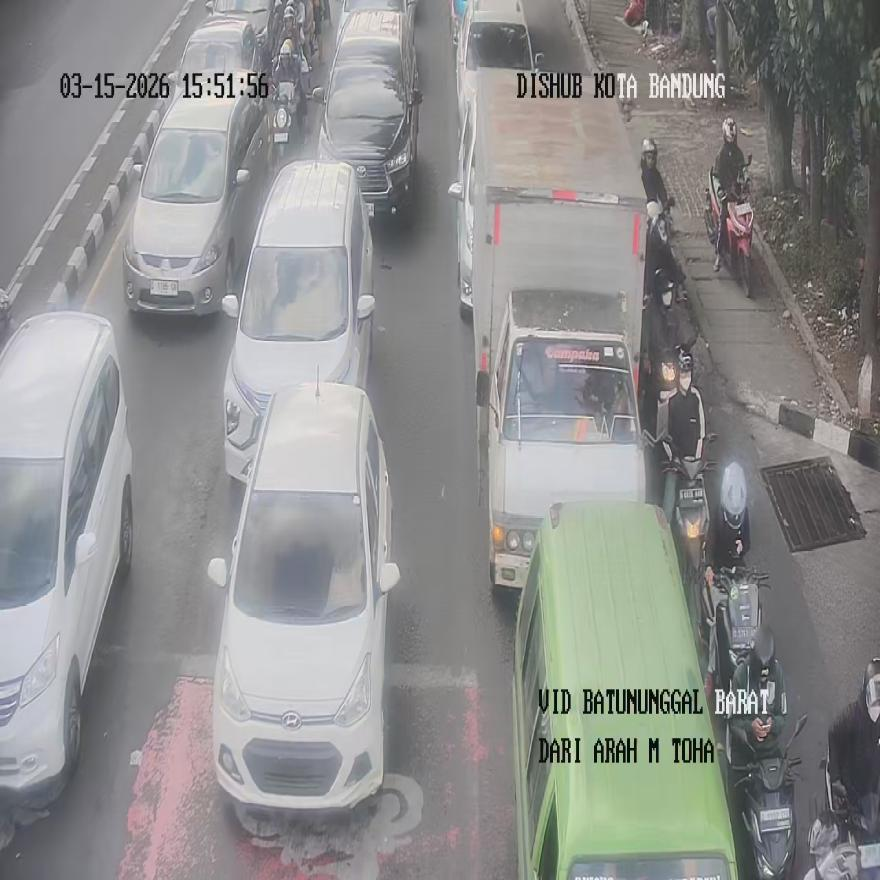Motor: (463, 72, 649, 587), (511, 499, 740, 878), (206, 380, 399, 815), (0, 310, 133, 805), (221, 160, 374, 482), (121, 89, 268, 314), (316, 9, 422, 217), (453, 0, 545, 128)
